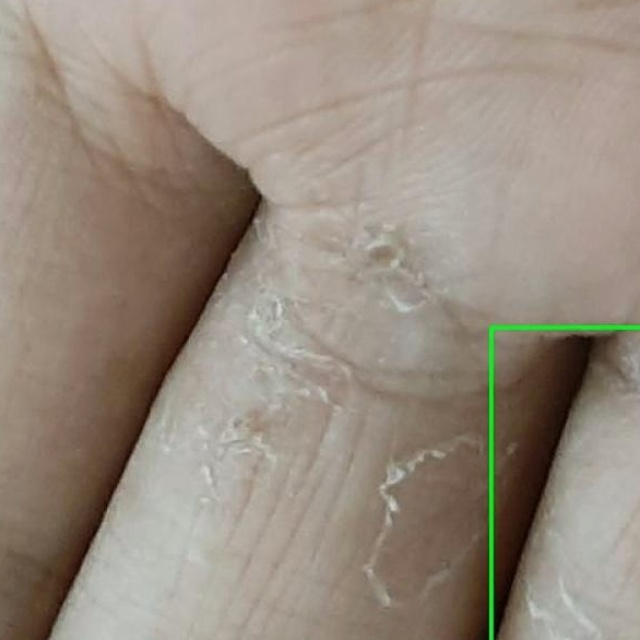Atopic Dermatitis: (490, 328, 639, 639)
